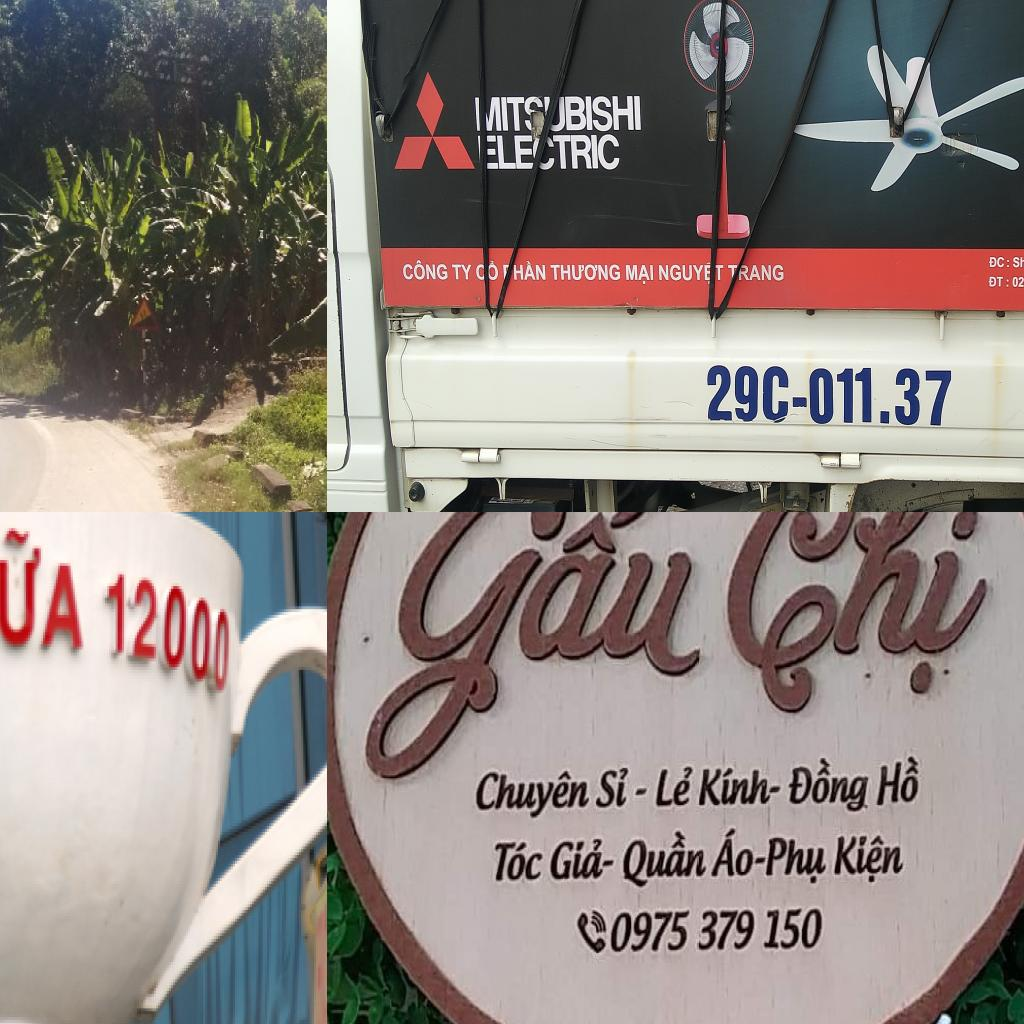text: (335, 512, 733, 786), (704, 512, 1011, 714), (100, 557, 242, 711), (702, 356, 956, 427), (0, 522, 90, 664), (473, 770, 591, 825), (617, 825, 707, 892), (785, 757, 875, 818), (829, 828, 911, 887), (696, 761, 786, 809), (709, 821, 771, 882), (766, 832, 830, 888), (564, 92, 644, 136), (550, 835, 618, 882), (489, 836, 546, 886), (875, 752, 924, 810), (553, 135, 622, 174), (651, 761, 697, 812), (593, 761, 634, 812), (549, 262, 622, 284), (658, 260, 712, 288), (496, 134, 534, 170), (727, 264, 788, 282), (500, 92, 525, 132), (402, 260, 449, 281), (624, 262, 655, 286), (513, 260, 546, 281), (450, 262, 472, 282), (985, 272, 1004, 290), (487, 259, 499, 282), (474, 260, 486, 282), (987, 255, 1005, 269), (1010, 254, 1024, 271), (714, 263, 724, 283), (1005, 277, 1009, 288), (1006, 259, 1010, 269)
